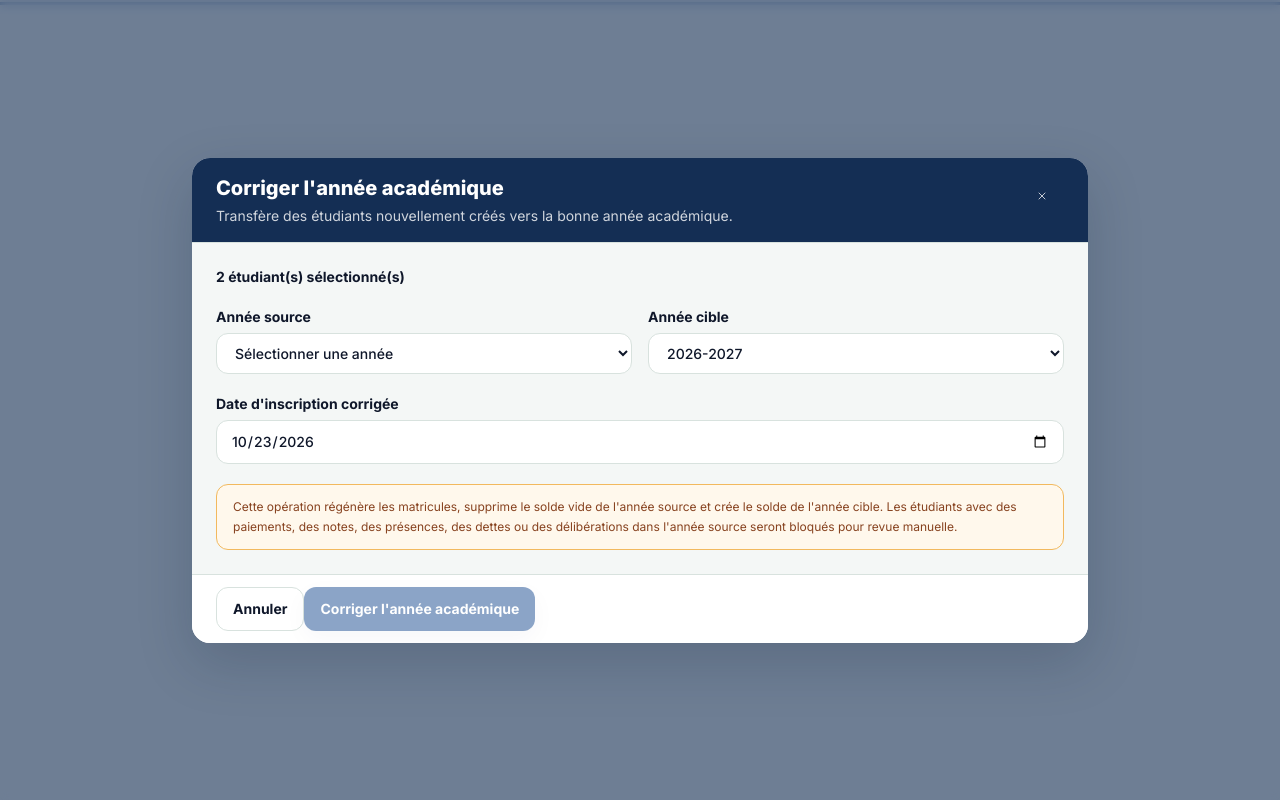
Test: AcademicYearCorrectionModal › posts the exact request payload and renders transferred and blocked results
This screenshot has width=1280, height=800.
Expected: the dropdown labelled "Année cible" shows "2026-2027", x1=648 y1=332 x2=1064 y2=374
Select "2025-2026" in the dropdown labelled "Année source" at [424, 353], box x1=216 y1=332 x2=632 y2=374
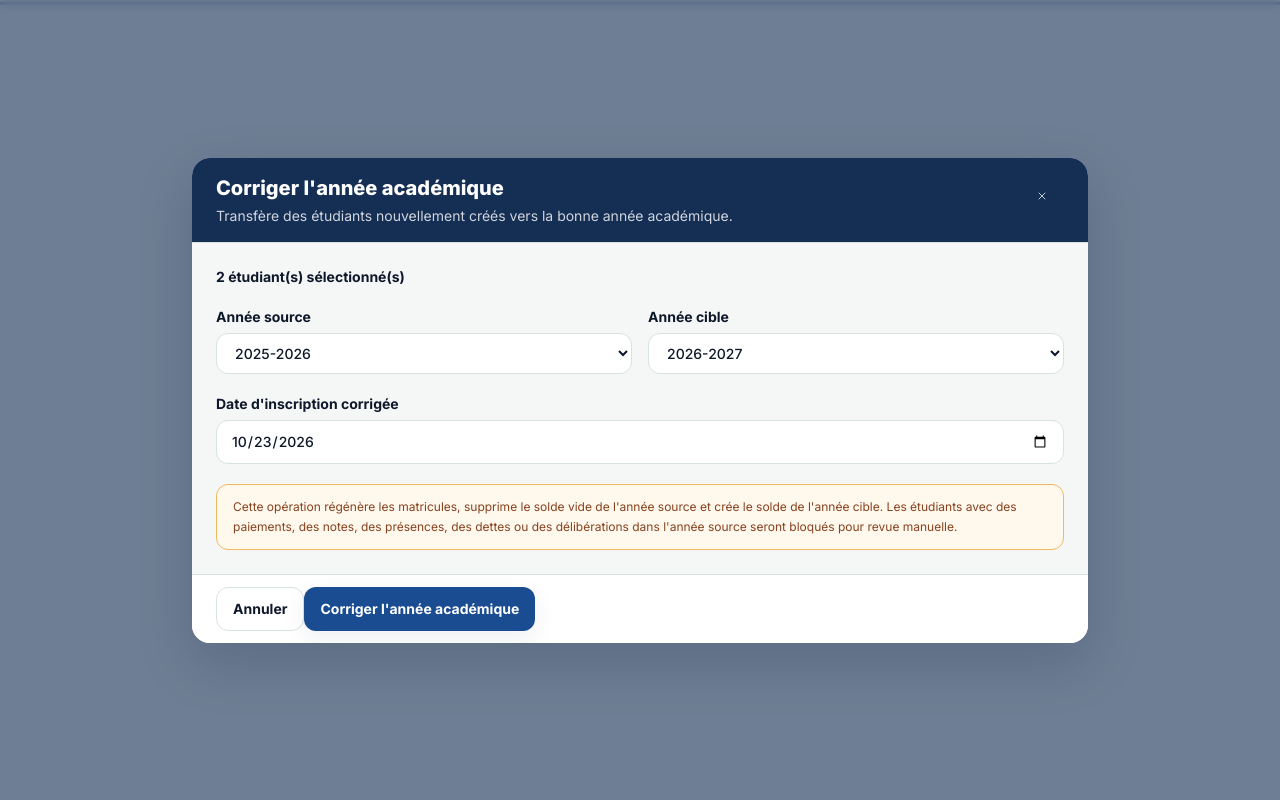
Type "2026-10-22" into the date field labelled "Date d'inscription corrigée" at [640, 442], box x1=216 y1=420 x2=1064 y2=464
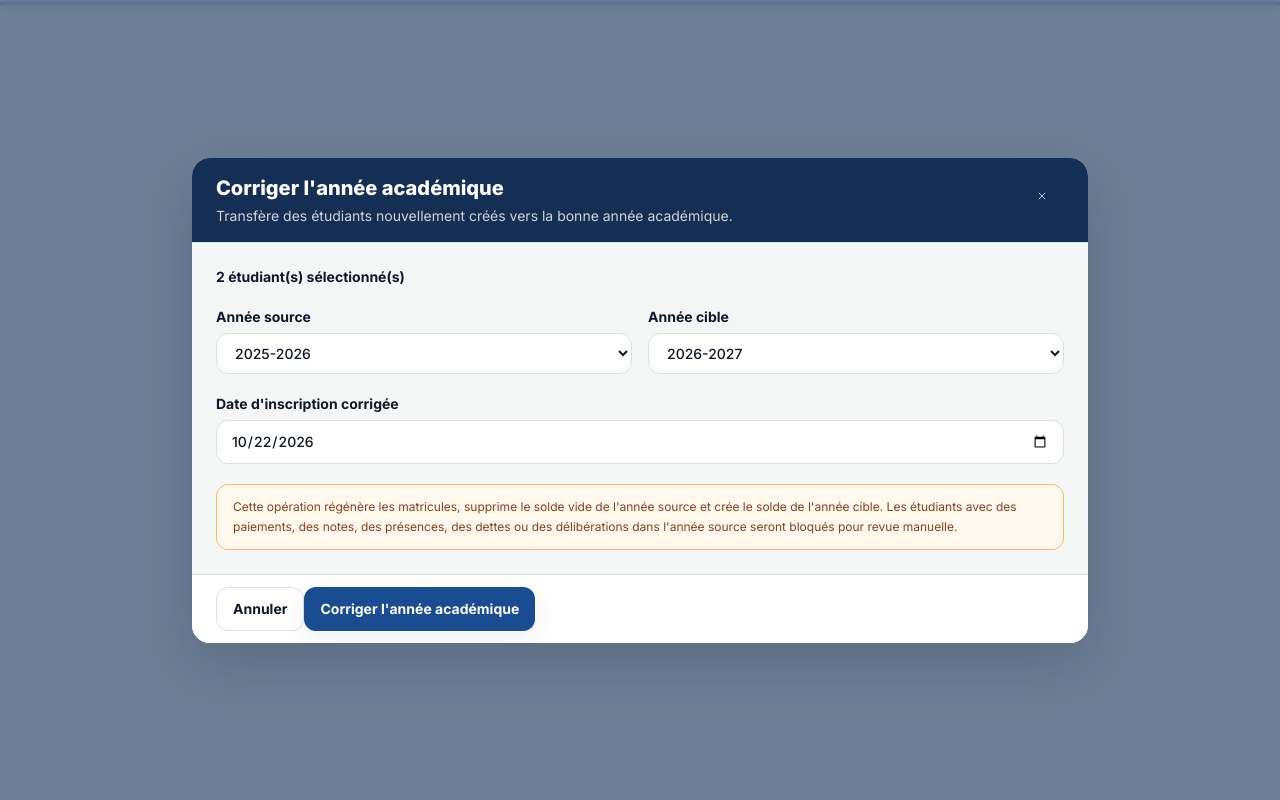
Click the button "Corriger l'année académique" at [420, 608], box x1=304 y1=586 x2=535 y2=630
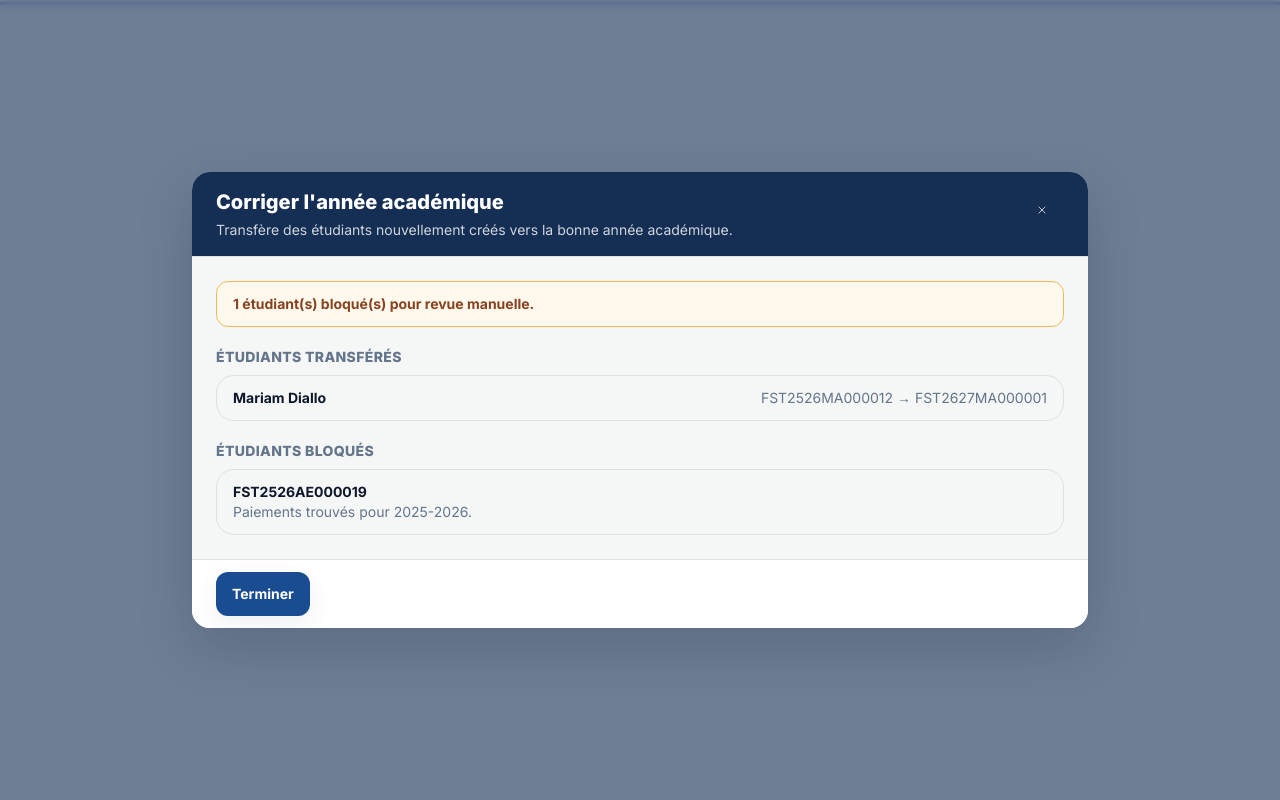
Expected: the heading "Étudiants transférés" is shown, x1=216 y1=348 x2=402 y2=365
Expected: the text "FST2526MA000012 → FST2627MA000001" is shown, x1=761 y1=388 x2=1047 y2=408
Expected: the heading "Étudiants bloqués" is shown, x1=216 y1=442 x2=374 y2=459
